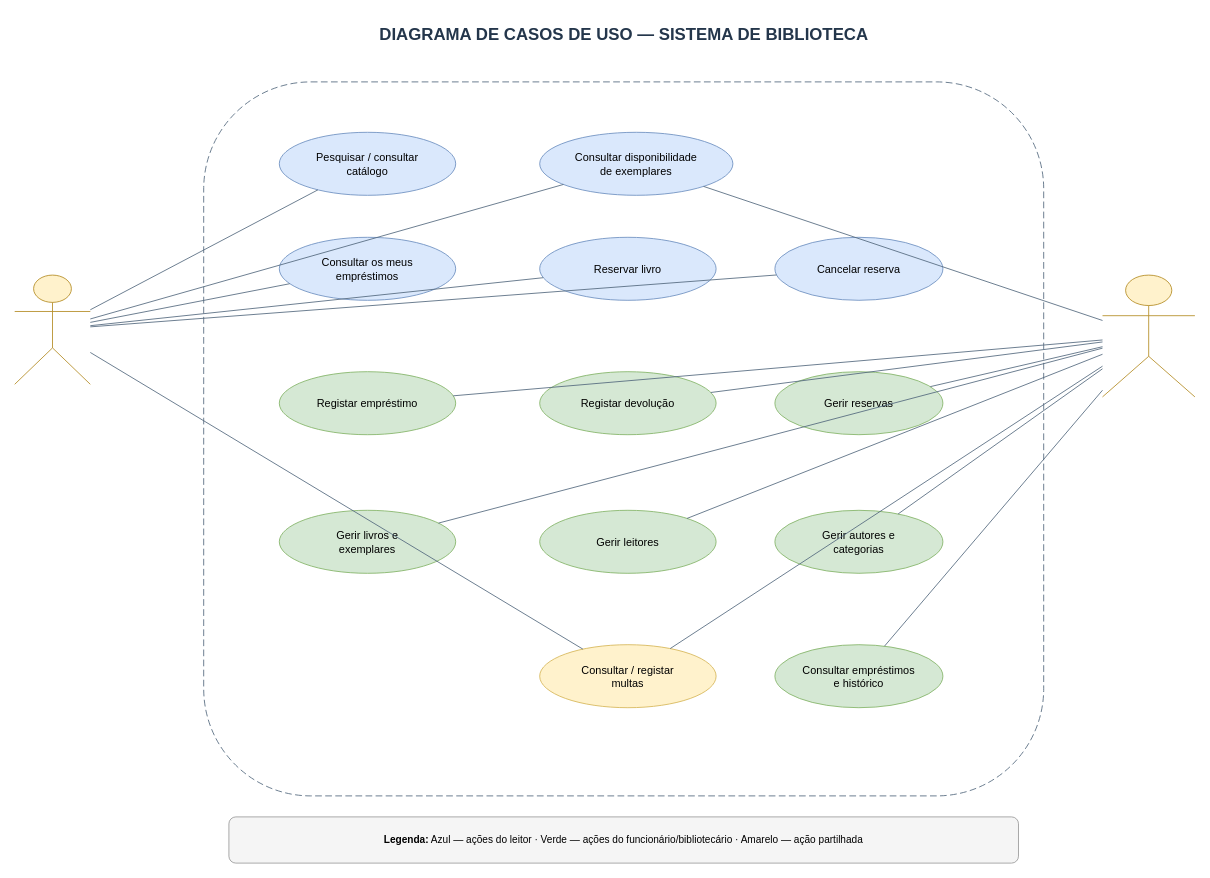
The diagram is 1210 pixels wide and 878 high, and some of its shapes have lost their labels. Each missing label, with the box of its shape:
Funcionário / Bibliotecário: (1102, 274, 1195, 397)
Leitor: (14, 274, 90, 384)
Sistema de Gestão de Biblioteca: (203, 81, 1044, 796)
